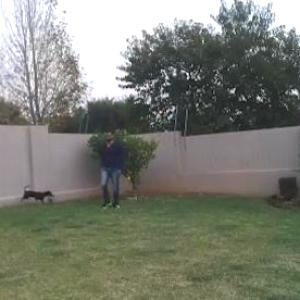follow: (99, 122, 126, 213)
